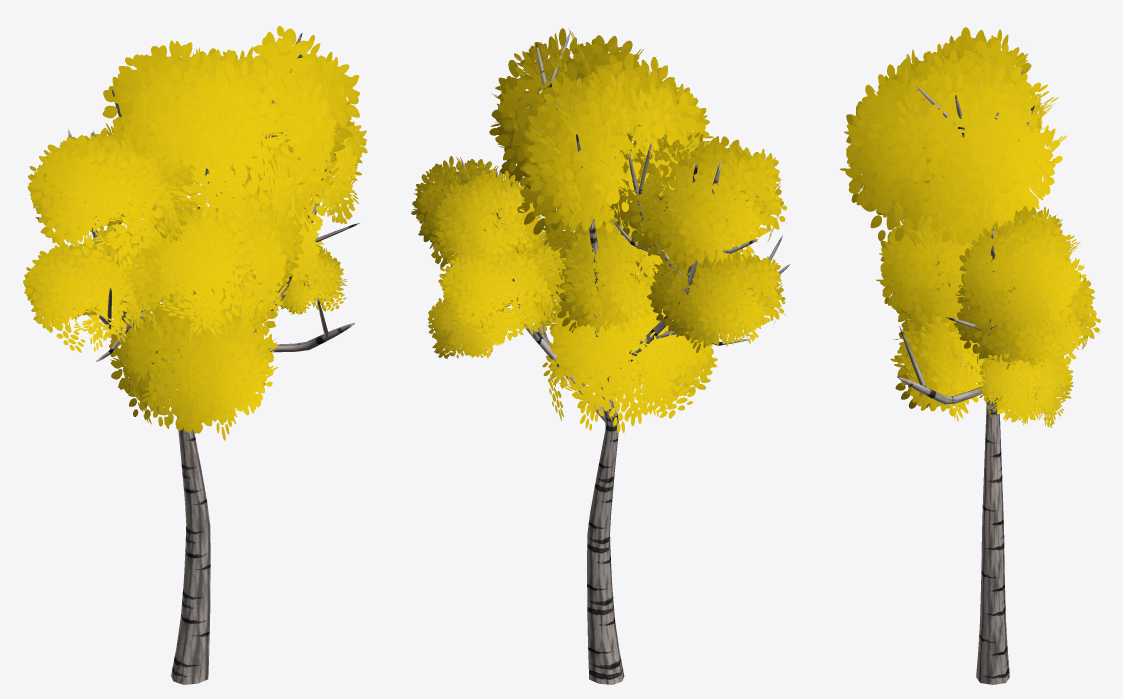
The model's file is BirchTree_3.glb.
The picture shows the model from 3 angles, left to right: view 1: azimuth 30°, elevation 25°; view 2: azimuth 150°, elevation 25°; view 3: azimuth 270°, elevation 25°; orthographic projection. The views are drawn at different scales.
Parts seen in each view (by area): view 1: BirchTree_3; view 2: BirchTree_3; view 3: BirchTree_3.
Part boxes in pixels (<box>): BirchTree_3: <box>23,26,367,684</box>; BirchTree_3: <box>411,28,790,684</box>; BirchTree_3: <box>839,27,1100,684</box>.
Bounding box in the file's own units: 3.43 × 5.75 × 2.27.
2 materials, 2 textured.
